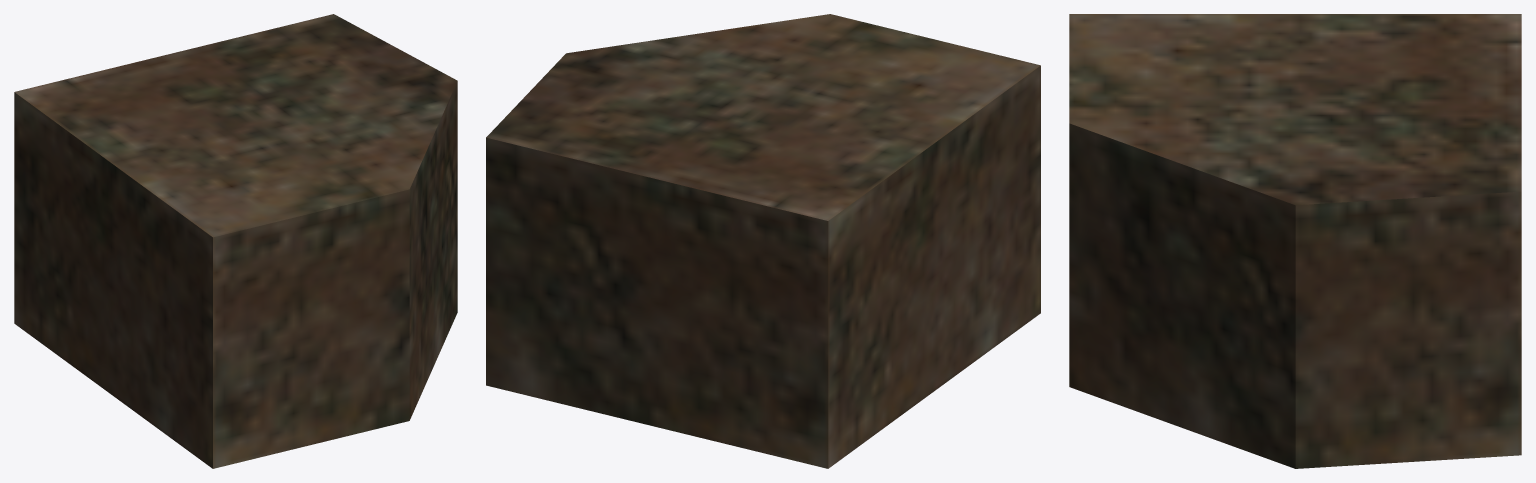
The model's file is brick_mx_2_2.obj.
The picture shows the model from 3 angles, left to right: view 1: azimuth 30°, elevation 25°; view 2: azimuth 150°, elevation 25°; view 3: azimuth 270°, elevation 25°; orthographic projection. The views are drawn at different scales.
Parts seen in each view (by area): view 1: brick_mx_2_2; view 2: brick_mx_2_2; view 3: brick_mx_2_2.
Boxes of the visible parts, x1,y1,x2,y2 form: brick_mx_2_2: (14, 14, 457, 468); brick_mx_2_2: (486, 14, 1040, 468); brick_mx_2_2: (1069, 14, 1521, 468).
Size of the model in its own units: 0.14 by 0.09 by 0.14.
